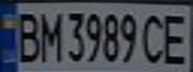3: (63, 8, 84, 62)
8: (103, 9, 121, 64)
9: (118, 10, 142, 64), (81, 8, 103, 63)
B: (9, 8, 42, 63)
C: (139, 9, 169, 65)
E: (157, 9, 193, 66)
M: (33, 8, 63, 63)
